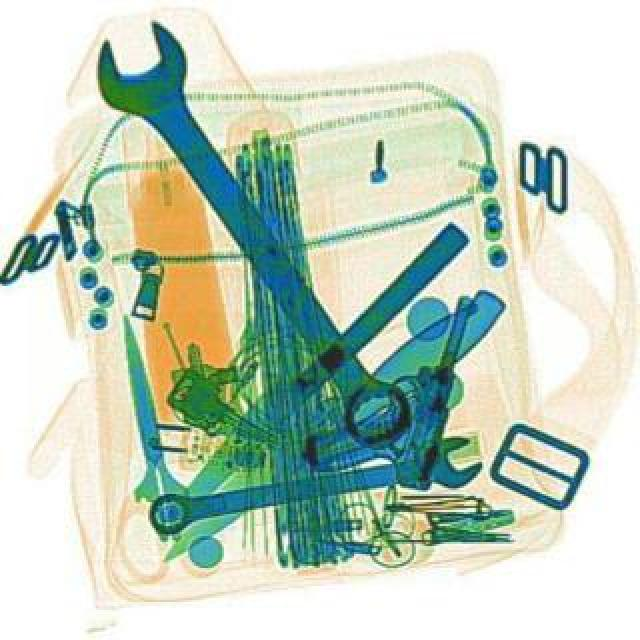gun: (294, 272, 474, 492)
knife: (146, 278, 514, 574), (150, 216, 470, 528), (98, 308, 188, 508)
scissors: (72, 8, 434, 462), (140, 430, 486, 546)
